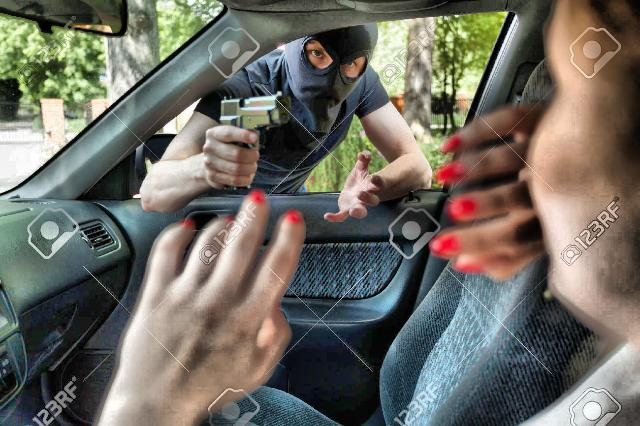pistol: (217, 93, 285, 190)
